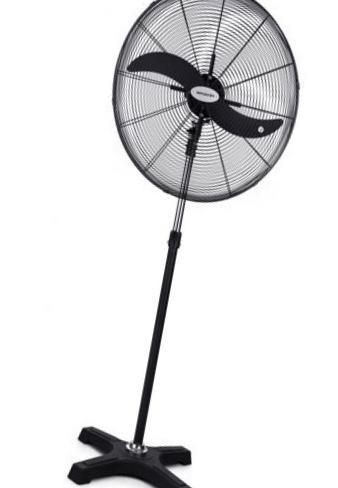fan: (70, 3, 325, 488)
